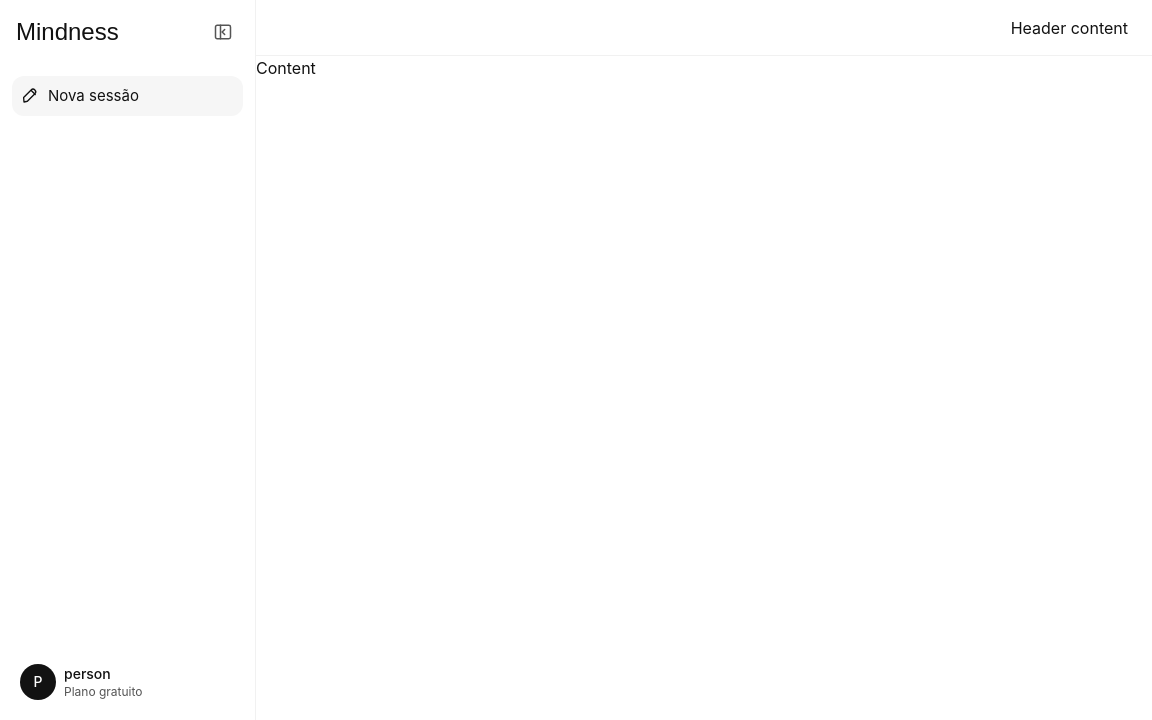
AuthenticatedShell › saves the name typed in the settings dialog and reloads the shell data
The width and height of the screenshot is (1152, 720).
Click the button with aria-label "Conta" at (128, 682), box [12,656,243,708]
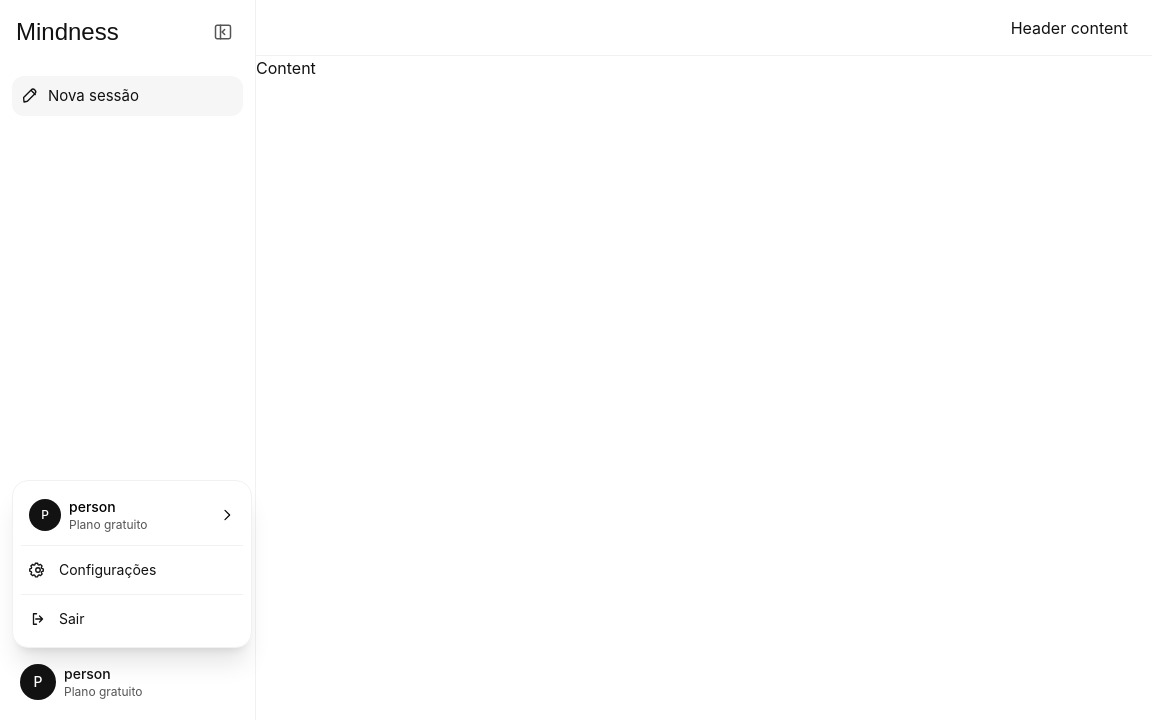
Click the button "Configurações" at (132, 570), box [21,550,243,590]
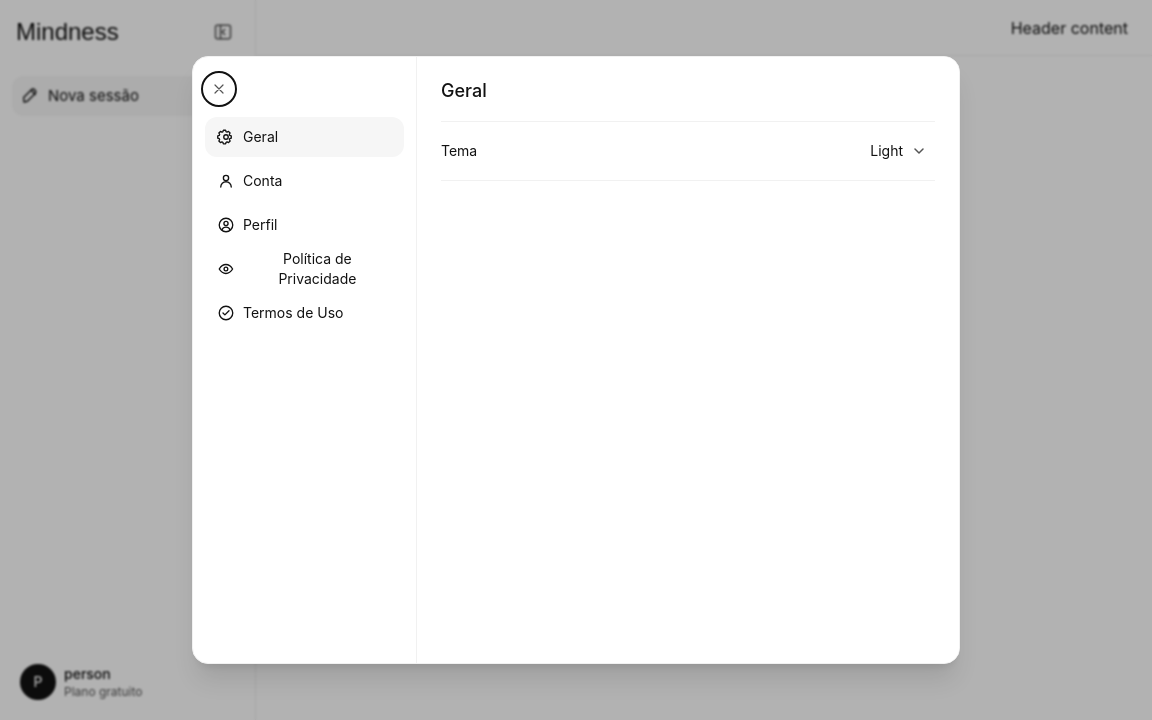
Click the button "Perfil" at (304, 225), box [205,205,404,245]
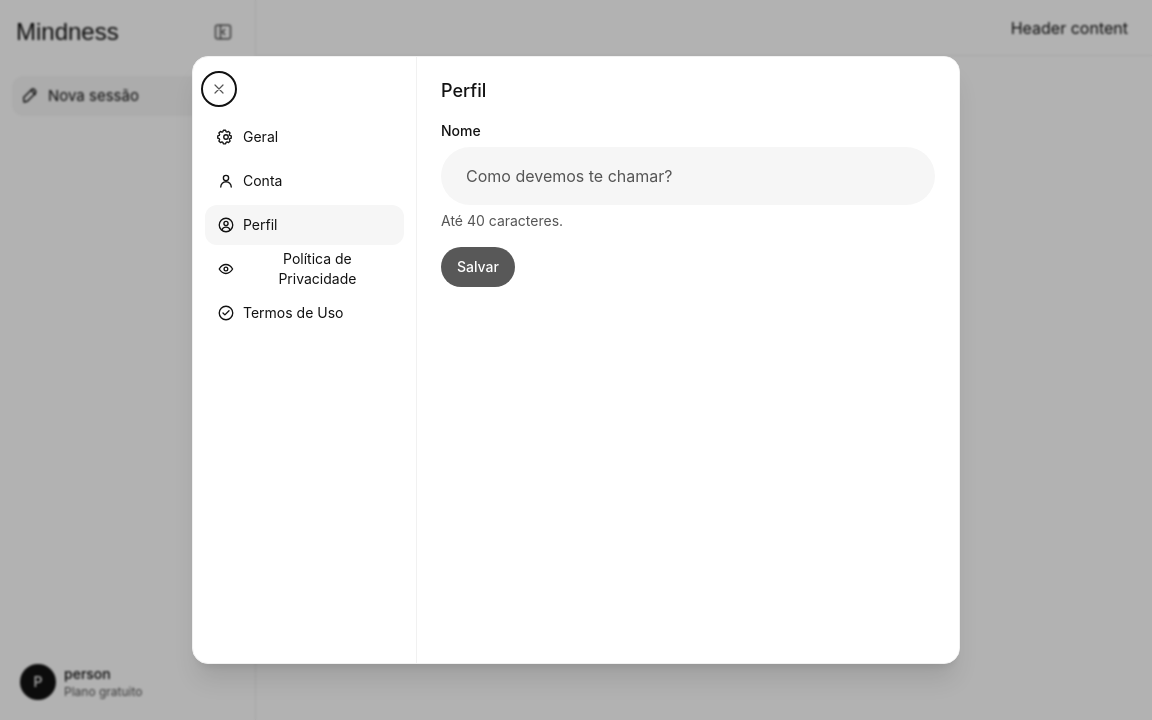
Type "Maria Silva" into the field labelled "Nome" at (688, 176), box [441,147,935,205]
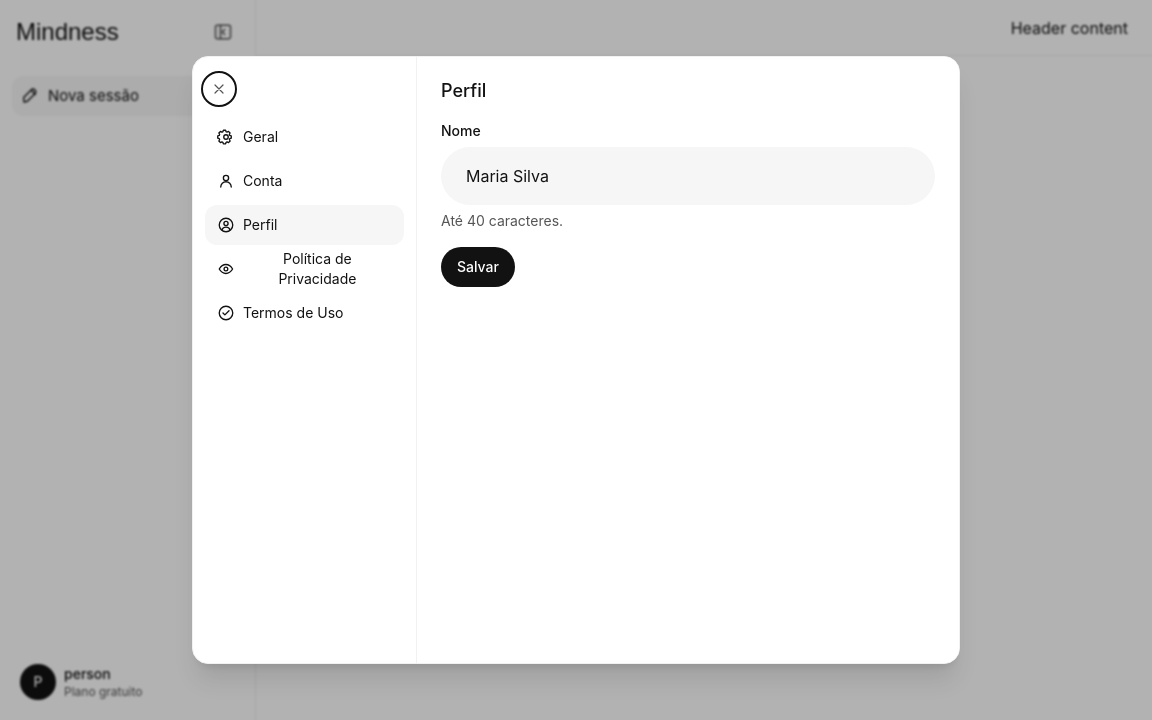
Click the button "Salvar" at (478, 267), box [441,247,515,287]
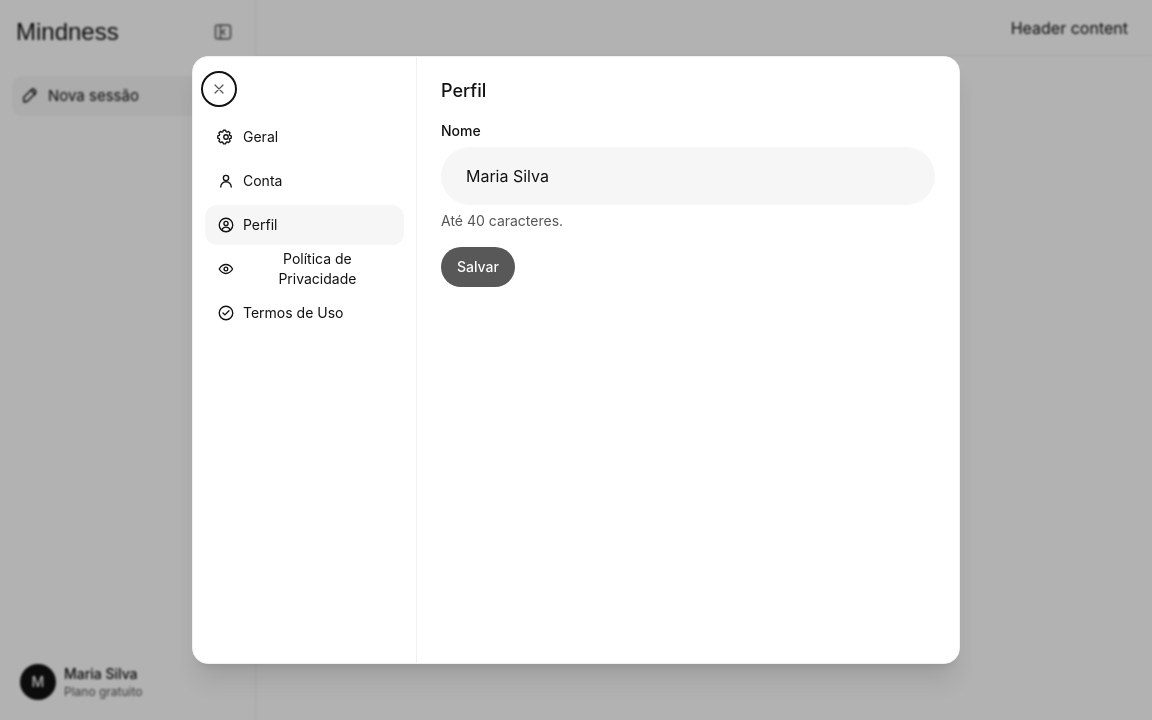
Expected: the button with aria-label "Conta" shows "Maria Silva", [12,656,243,708]
